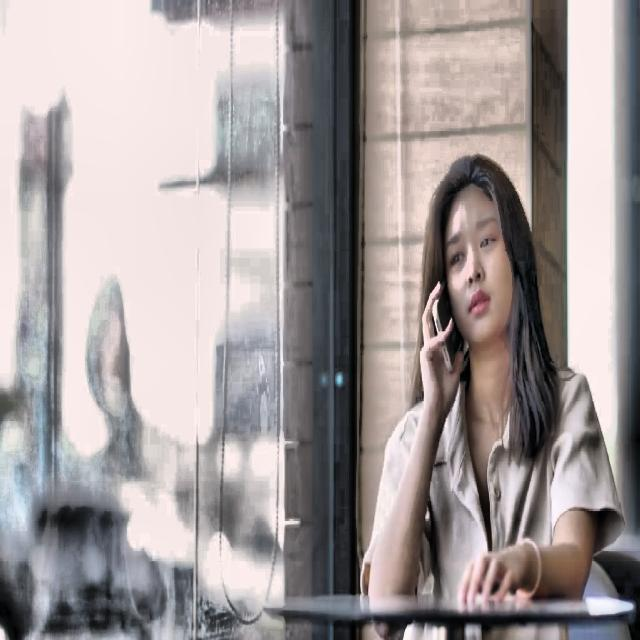Phone: (432, 276, 464, 374)
